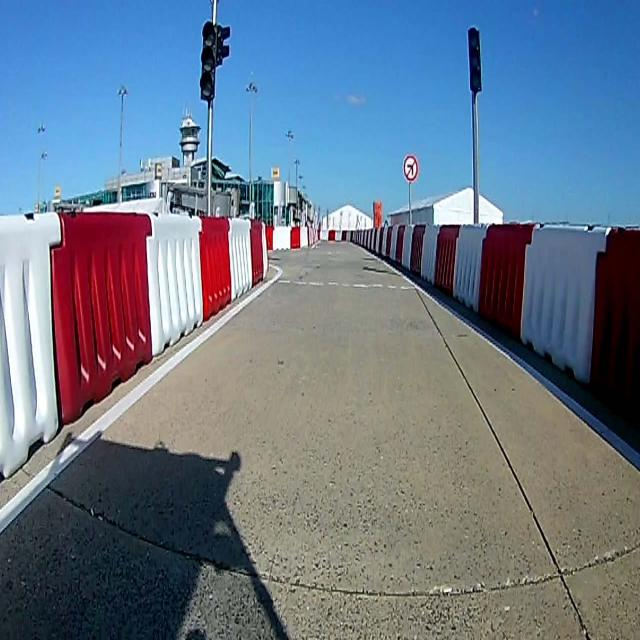soladonulmez: (404, 152, 418, 182)
